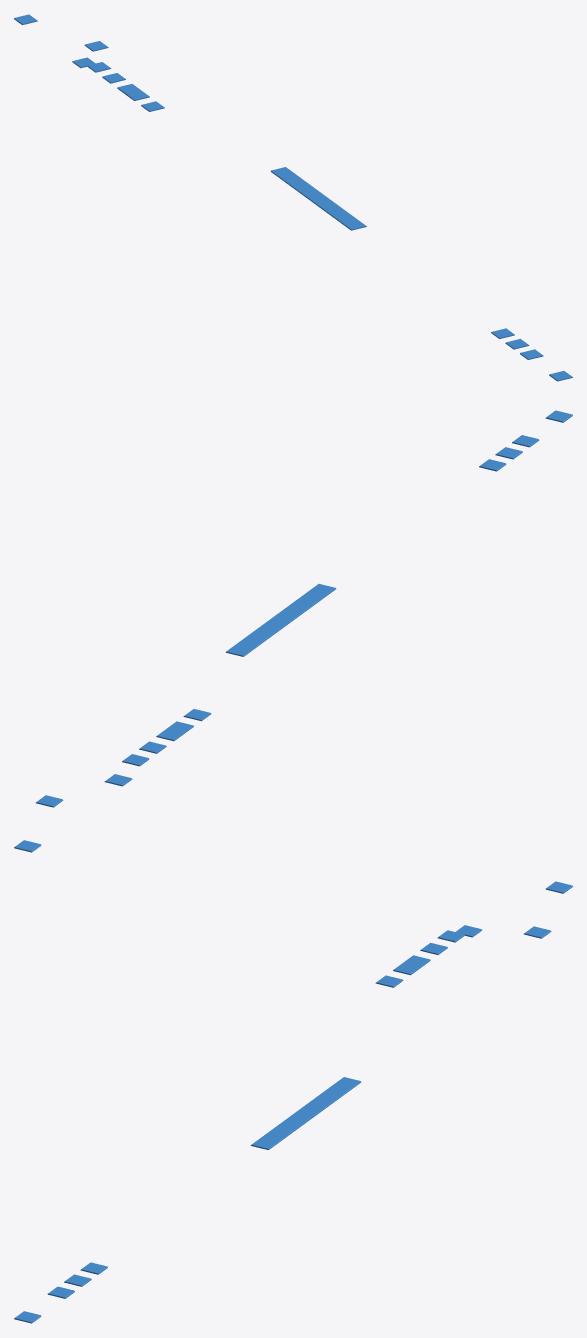
File: Jump_Floor_Blue.fbx
The picture shows the model from 3 angles, top to bottom: view 1: azimuth 30°, elevation 25°; view 2: azimuth 150°, elevation 25°; view 3: azimuth 330°, elevation 25°; orthographic projection. The views are drawn at different scales.
Parts seen in each view (by area): view 1: Blue_Joibn; view 2: Blue_Joibn; view 3: Blue_Joibn.
Part boxes in pixels (x1,y1,x2,y2): Blue_Joibn: (14, 14, 572, 381); Blue_Joibn: (14, 410, 572, 852); Blue_Joibn: (14, 881, 572, 1323).
Bounding box in the file's own units: 1200 × 320 × 16980.
